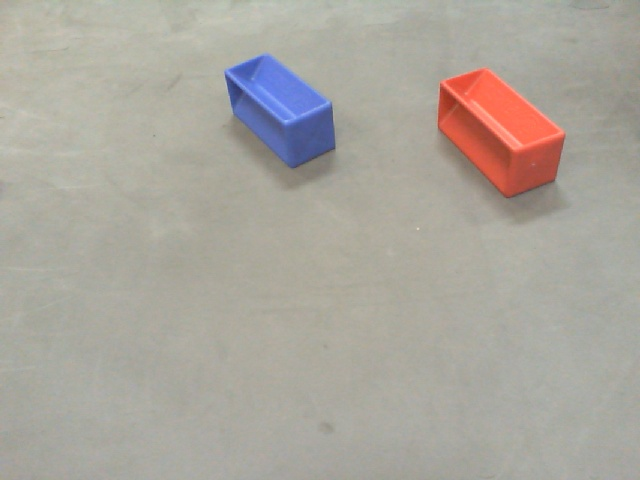BlueSample: (220, 53, 337, 169)
RedSample: (435, 66, 566, 200)
